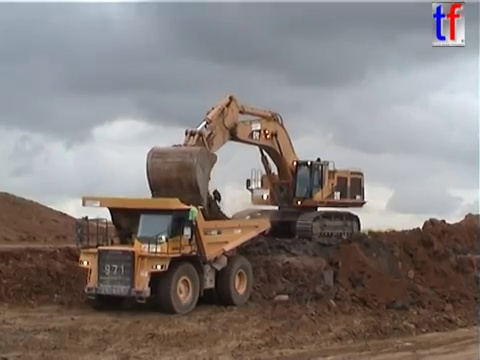excavator: (143, 91, 369, 247)
truck: (74, 193, 272, 316)
worker: (184, 200, 201, 246)
